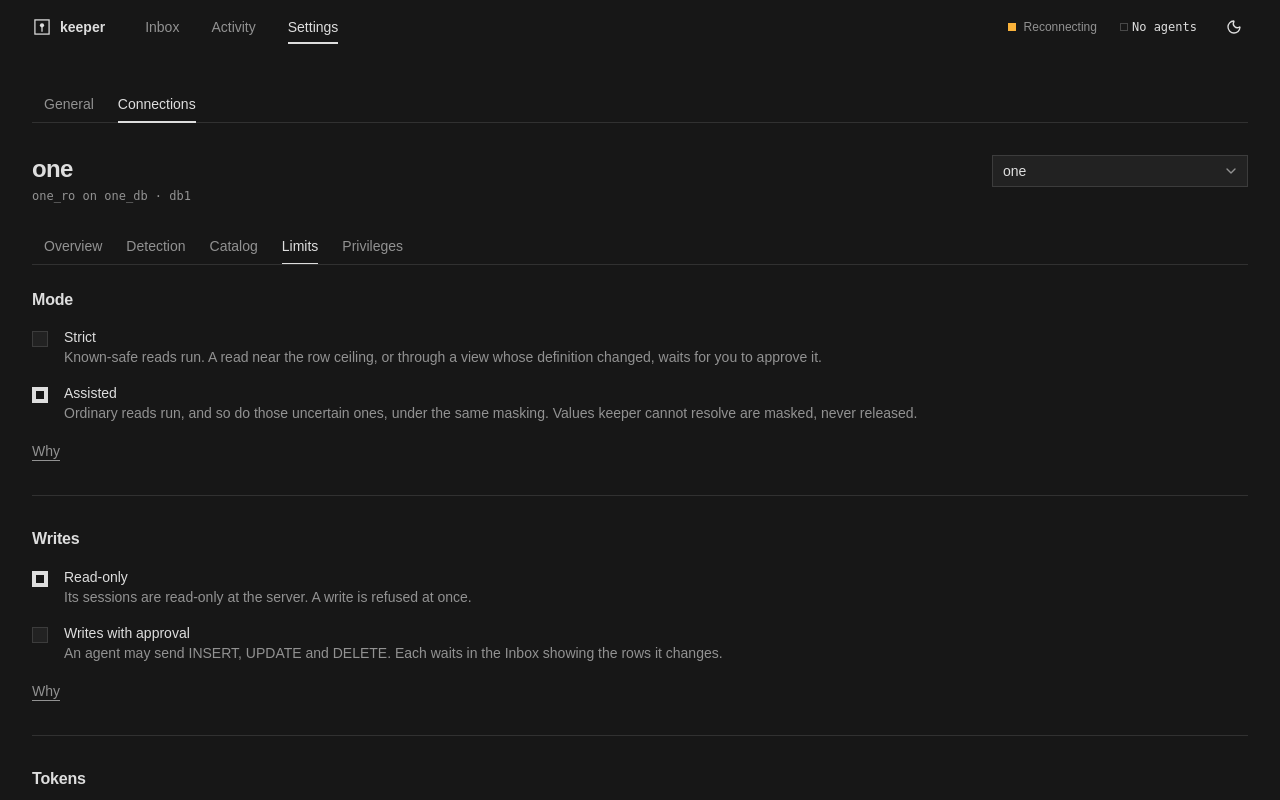
Test: saving a connection setting › POL-C7 a choice says it was saved
Click the radio button named "strict" next to "Strict" at (40, 339), box [32,331,48,347]
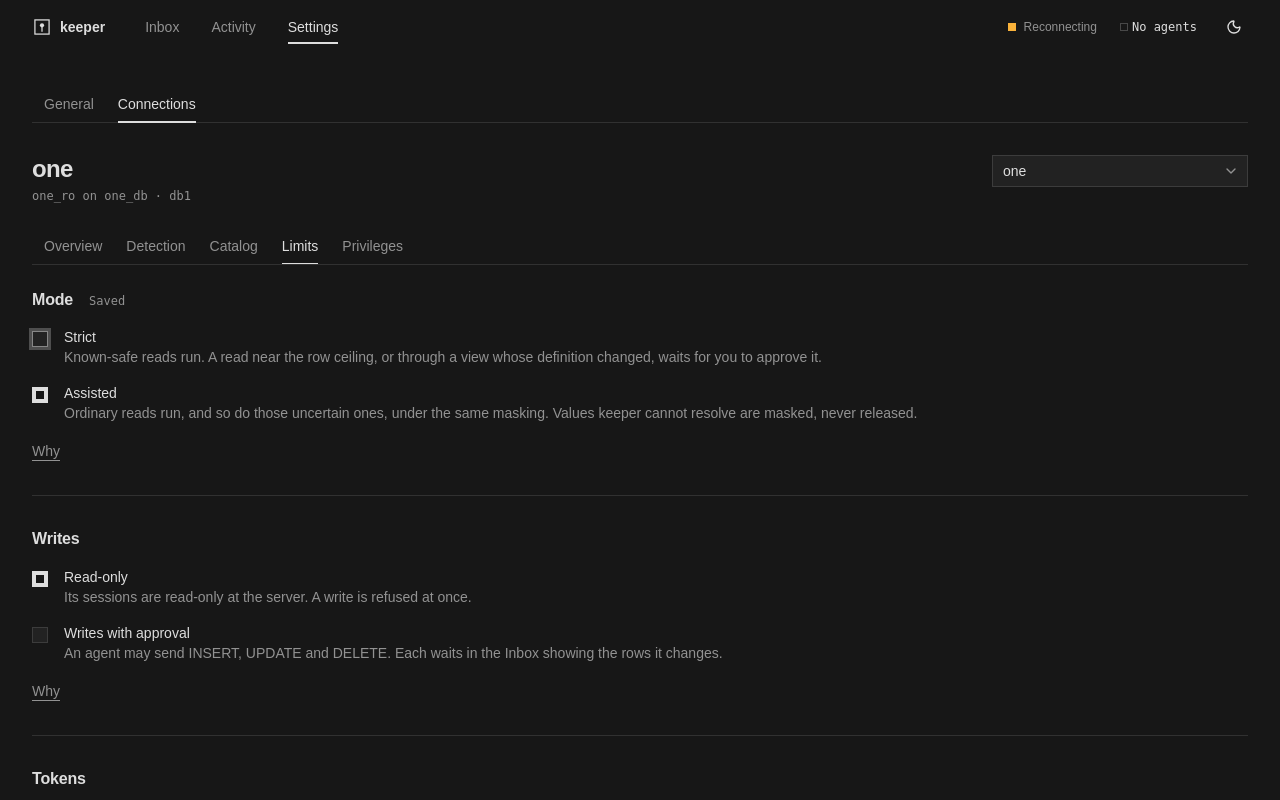
Check: the text "Saved" is shown, box [89,293,125,309]
